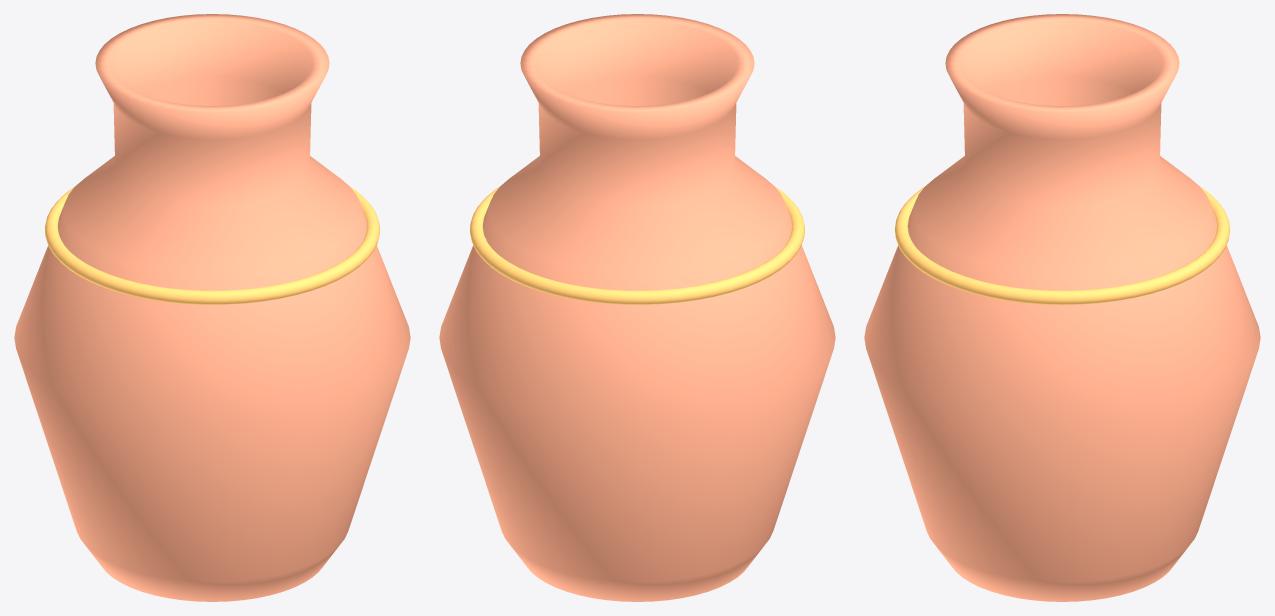
File: kiln_vase.glb
3 views of the same model, side by side, from view 1: azimuth 30°, elevation 25°; view 2: azimuth 150°, elevation 25°; view 3: azimuth 270°, elevation 25° (orthographic).
Parts seen in each view (by area): view 1: kiln_vase; view 2: kiln_vase; view 3: kiln_vase.
Boxes of the visible parts, x1,y1,x2,y2 form: kiln_vase: [14, 14, 410, 601]; kiln_vase: [439, 14, 835, 601]; kiln_vase: [864, 14, 1260, 601].
Bounding box in the file's own units: 0.22 × 0.3 × 0.22.
